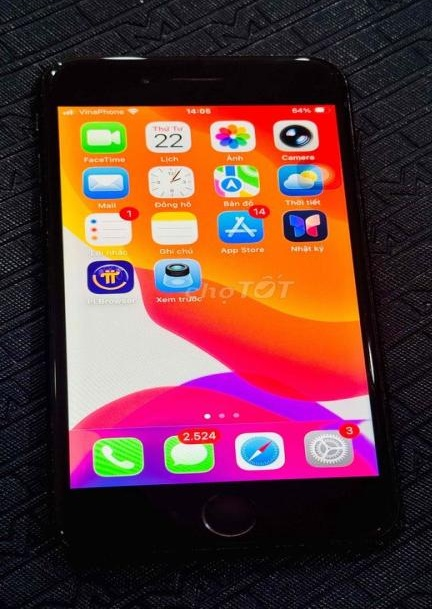scratch: (365, 340, 385, 386), (44, 356, 65, 398), (94, 49, 152, 60), (48, 56, 64, 77), (52, 520, 66, 539), (292, 53, 313, 64), (372, 518, 384, 531)
